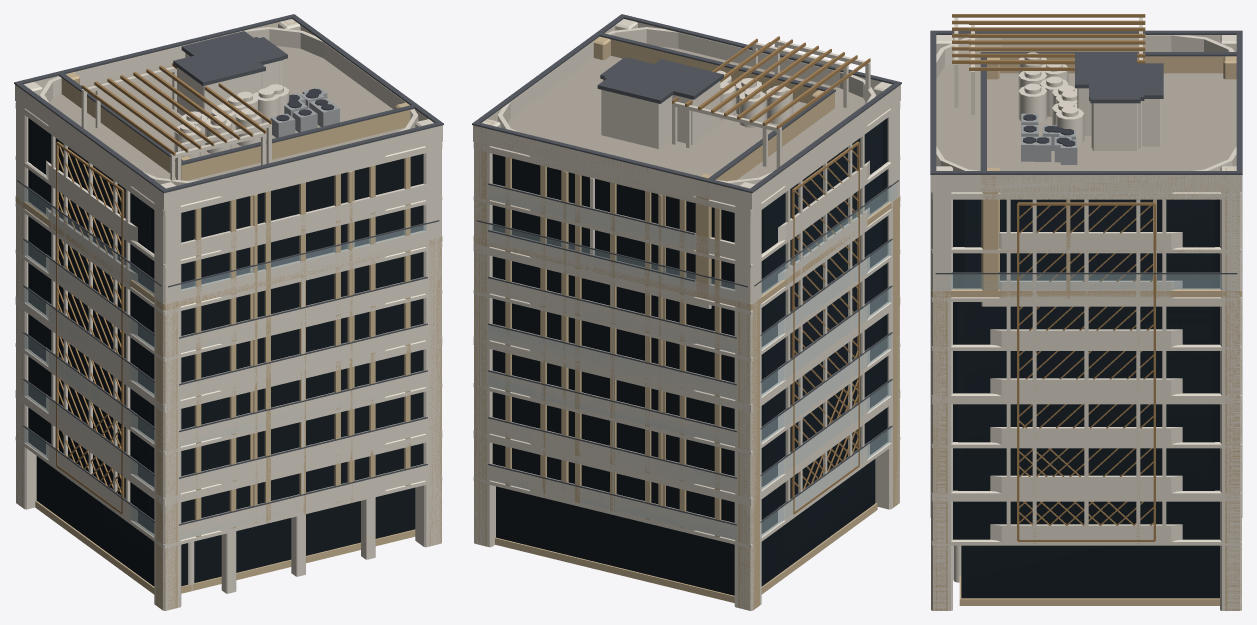
Rendered from midrise-residential.glb.
3 views of the same model, side by side, from view 1: azimuth 30°, elevation 25°; view 2: azimuth 150°, elevation 25°; view 3: azimuth 270°, elevation 25° (orthographic). The views are drawn at different scales.
Parts seen in each view (by area): view 1: midrise-residential_v0, midrise-residential_v2, midrise-residential_v1, midrise-residential_v3; view 2: midrise-residential_v0, midrise-residential_v1, midrise-residential_v2, midrise-residential_v3; view 3: midrise-residential_v0, midrise-residential_v1, midrise-residential_v3, midrise-residential_v2.
Boxes of the visible parts, bbox=[...] form: midrise-residential_v0: bbox=[14, 14, 443, 610]; midrise-residential_v2: bbox=[16, 20, 441, 608]; midrise-residential_v1: bbox=[15, 14, 442, 610]; midrise-residential_v3: bbox=[39, 27, 418, 590]; midrise-residential_v0: bbox=[472, 14, 901, 610]; midrise-residential_v1: bbox=[472, 32, 900, 610]; midrise-residential_v2: bbox=[474, 19, 899, 610]; midrise-residential_v3: bbox=[497, 27, 876, 530]; midrise-residential_v0: bbox=[930, 14, 1242, 610]; midrise-residential_v1: bbox=[930, 52, 1242, 610]; midrise-residential_v3: bbox=[936, 21, 1236, 582]; midrise-residential_v2: bbox=[933, 35, 1239, 610].
Size of the model in its own units: 20.08 by 30.95 by 18.58.
